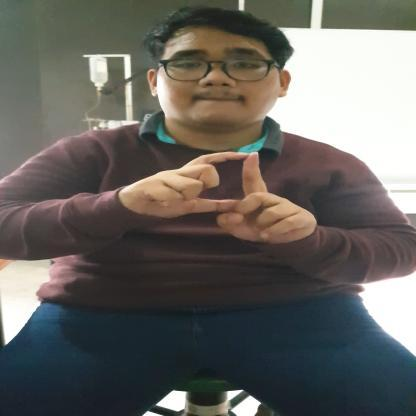D: (128, 152, 318, 244)
